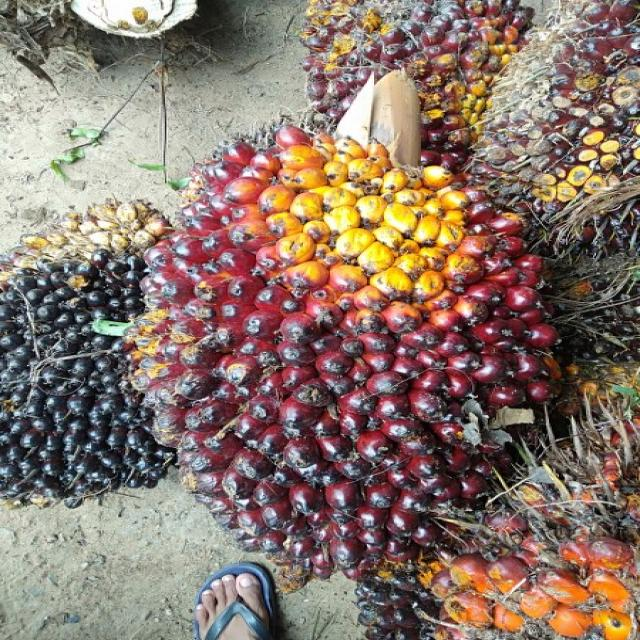fraksi 00: (0, 213, 215, 511)
fraksi 3: (132, 122, 562, 590)
